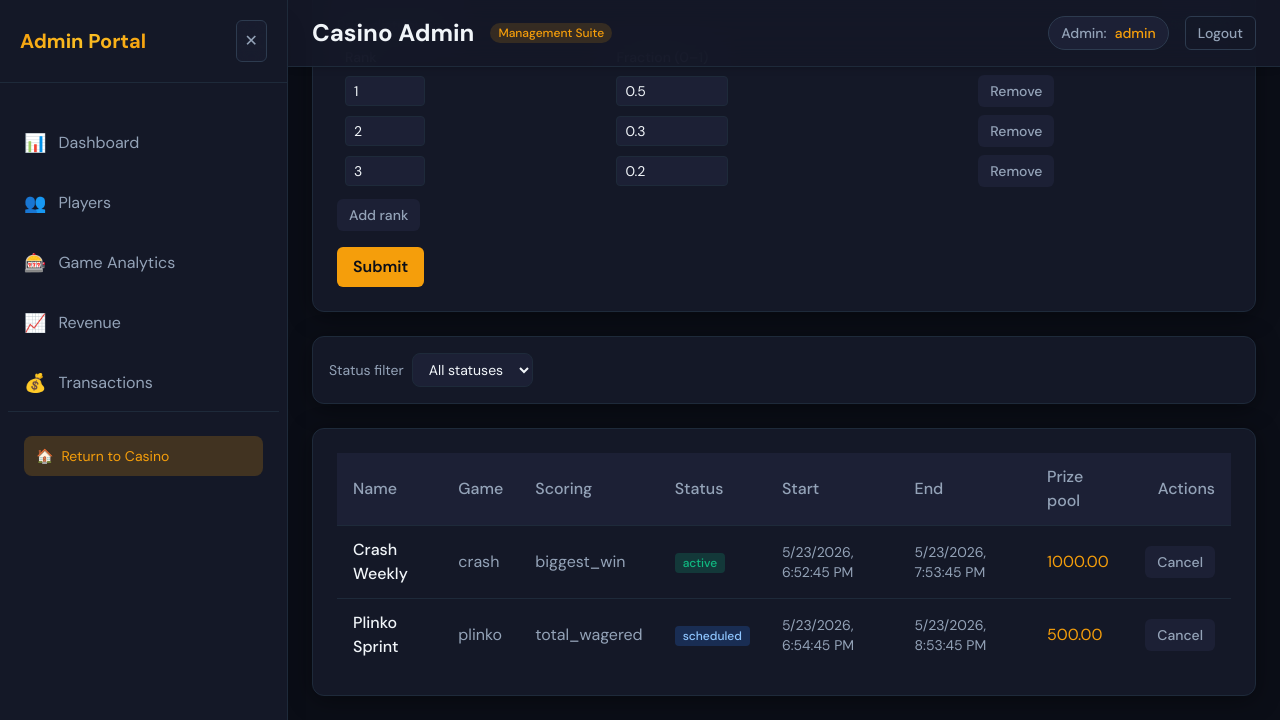
Test: TournamentsAdminPage › detail modal + actions › opens the detail modal when a row is clicked
The image size is (1280, 720).
(page scrolled)
Step 1. Click the row with test id "tournament-row-1" → click(784, 562), box left=337, top=526, right=1231, bottom=598
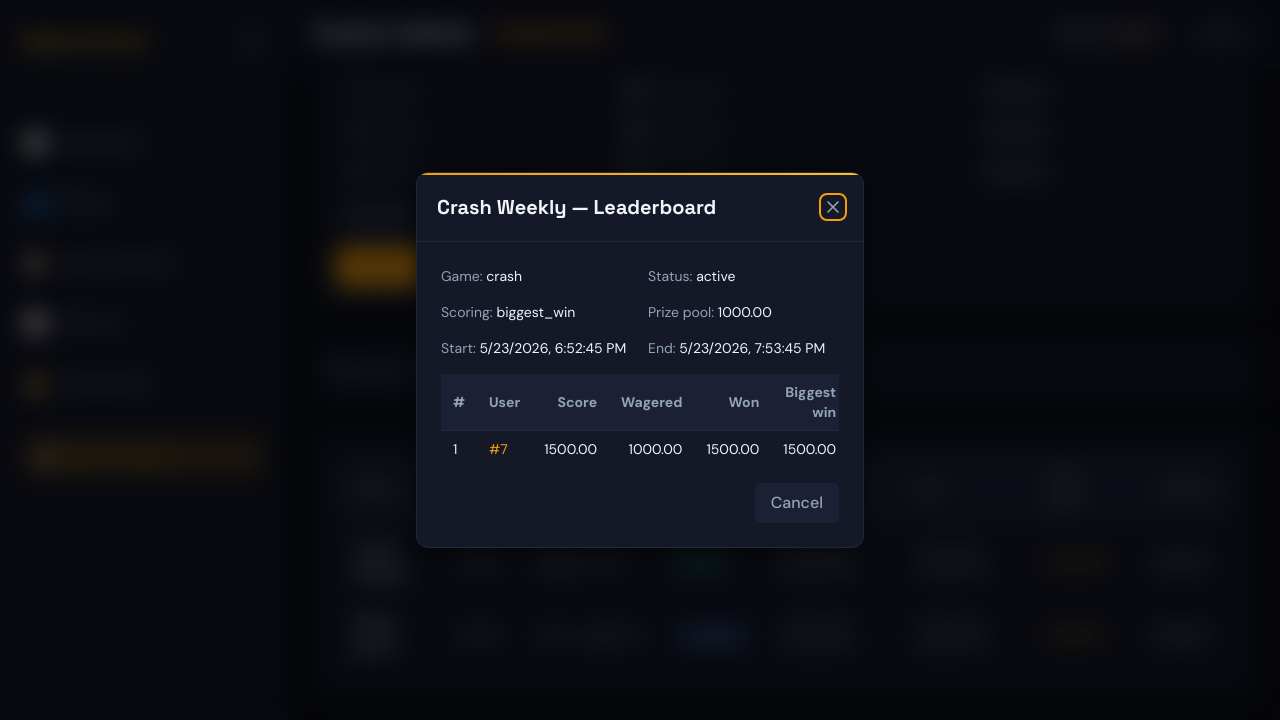
Expected: the element with test id "tournament-detail" is shown, left=441, top=266, right=839, bottom=523
Expected: the link "#7" is shown, left=489, top=440, right=508, bottom=458
